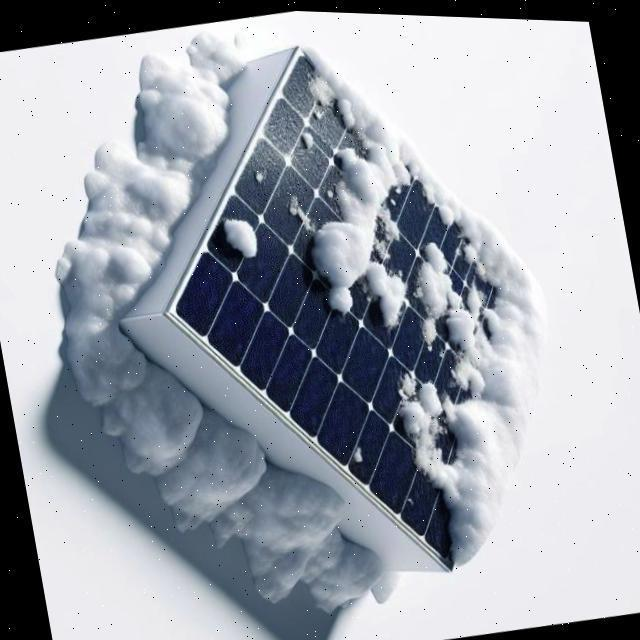Anomaly Solar Panel: (108, 41, 640, 567)
Snow: (381, 165, 563, 569), (250, 38, 450, 330), (222, 212, 259, 257), (297, 124, 316, 148)
